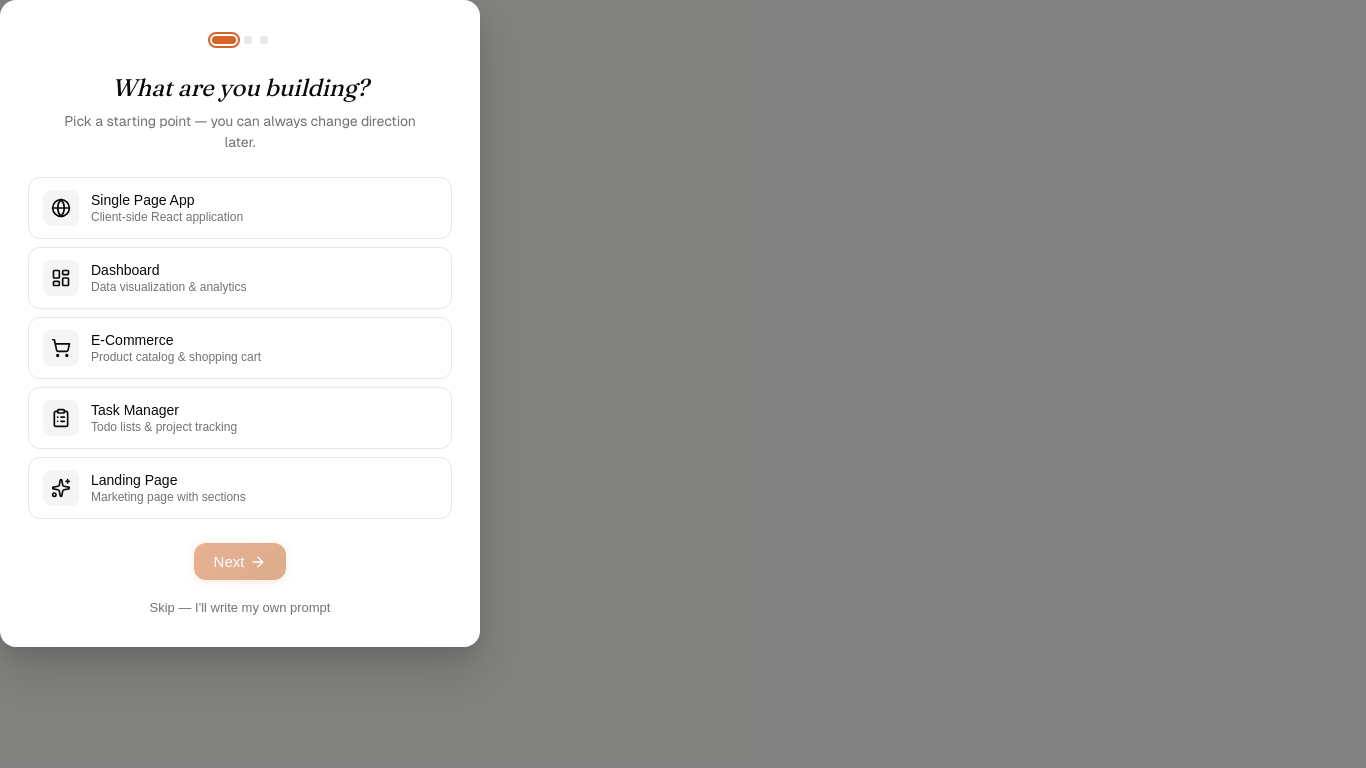
OnboardingOverlay › design style labels (Step 3) › shows renamed style labels on step 3
The width and height of the screenshot is (1366, 768).
Click the text "Single Page App": [143, 200] box left=91, top=192, right=194, bottom=208
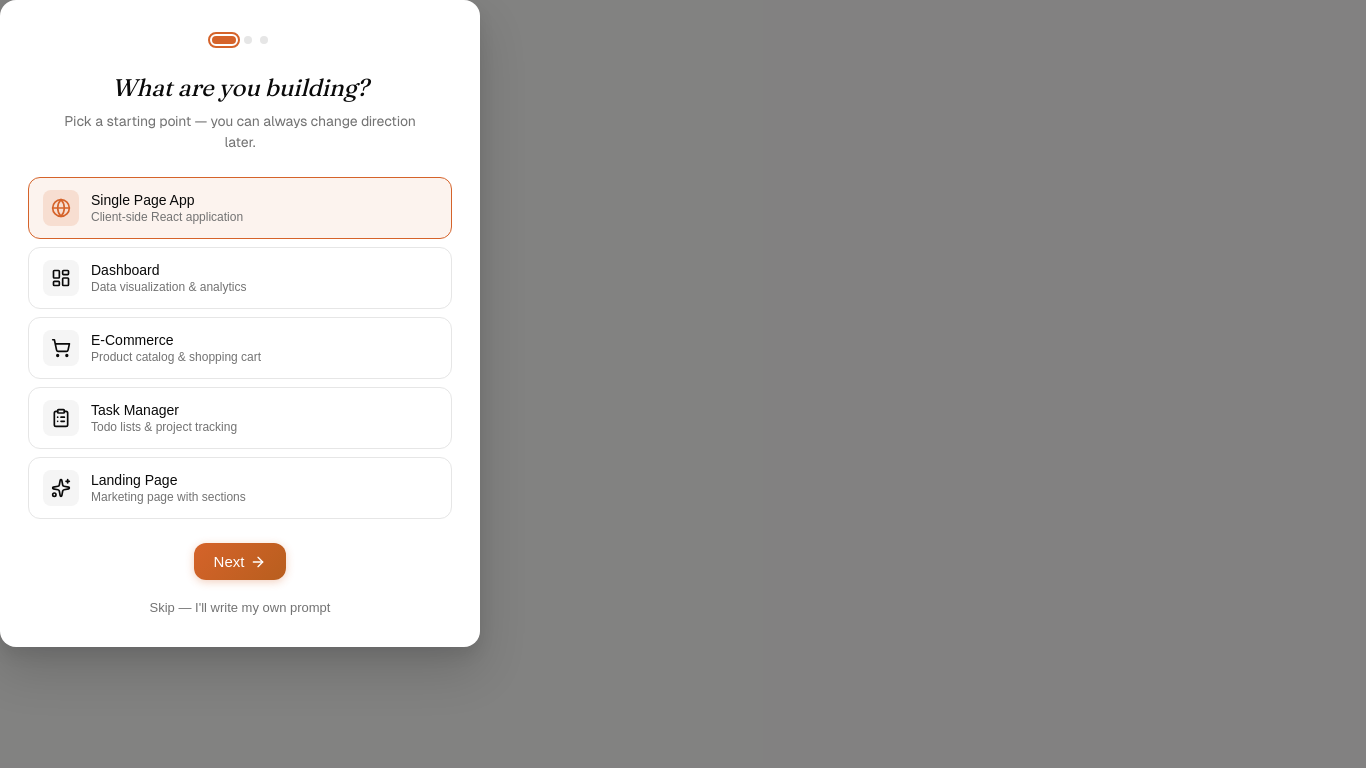
Click the button "Next": [240, 562] box left=194, top=543, right=286, bottom=580
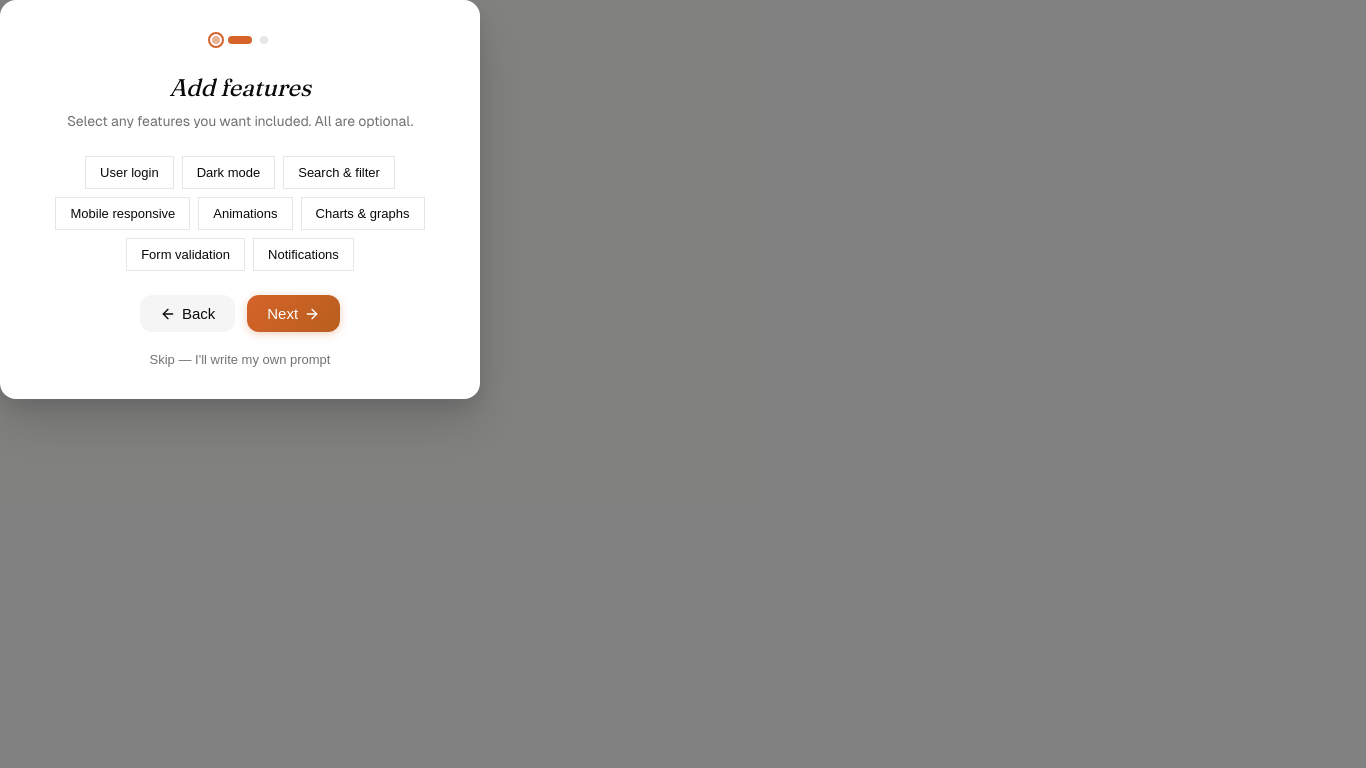
Click the button "Next": [294, 314] box left=247, top=295, right=340, bottom=332
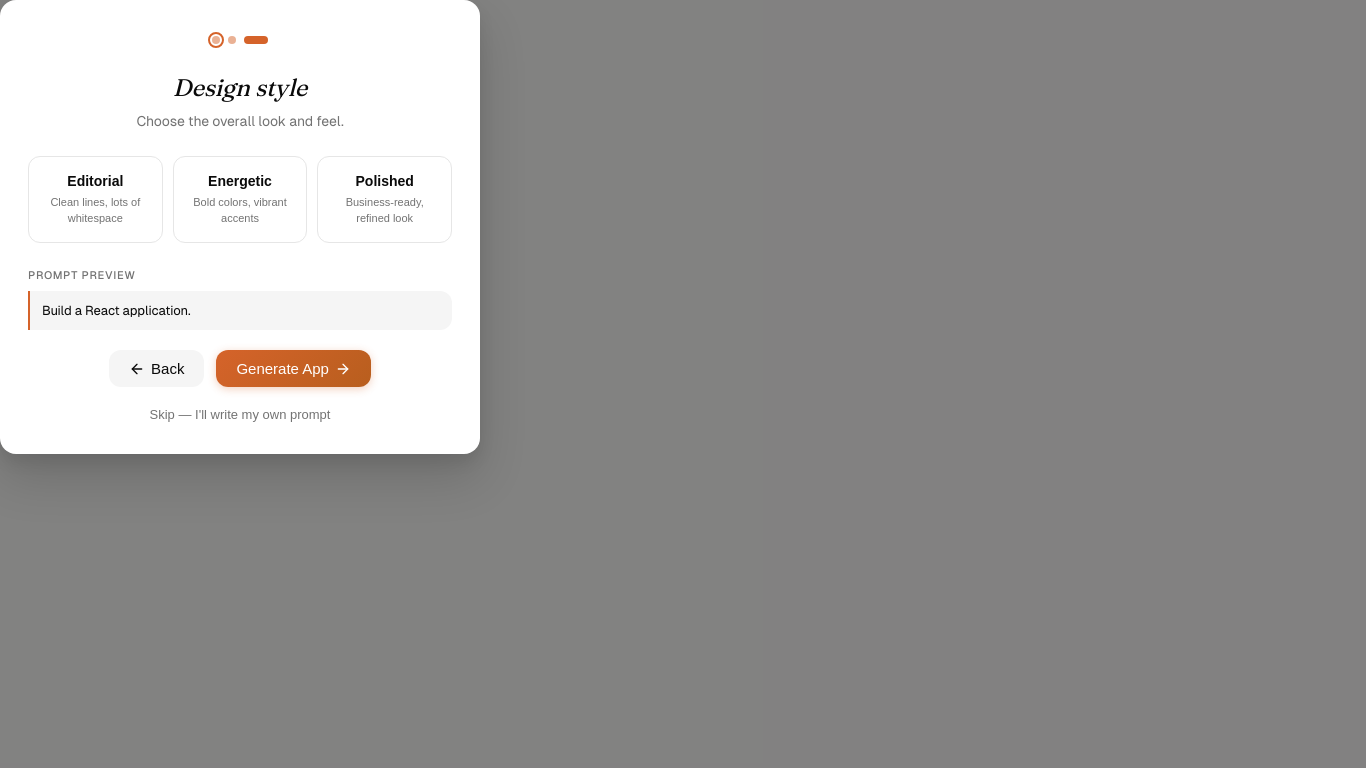
Expected: the text "Editorial" is shown, left=67, top=173, right=123, bottom=189
Expected: the text "Energetic" is shown, left=208, top=173, right=272, bottom=189
Expected: the text "Polished" is shown, left=356, top=173, right=414, bottom=189
